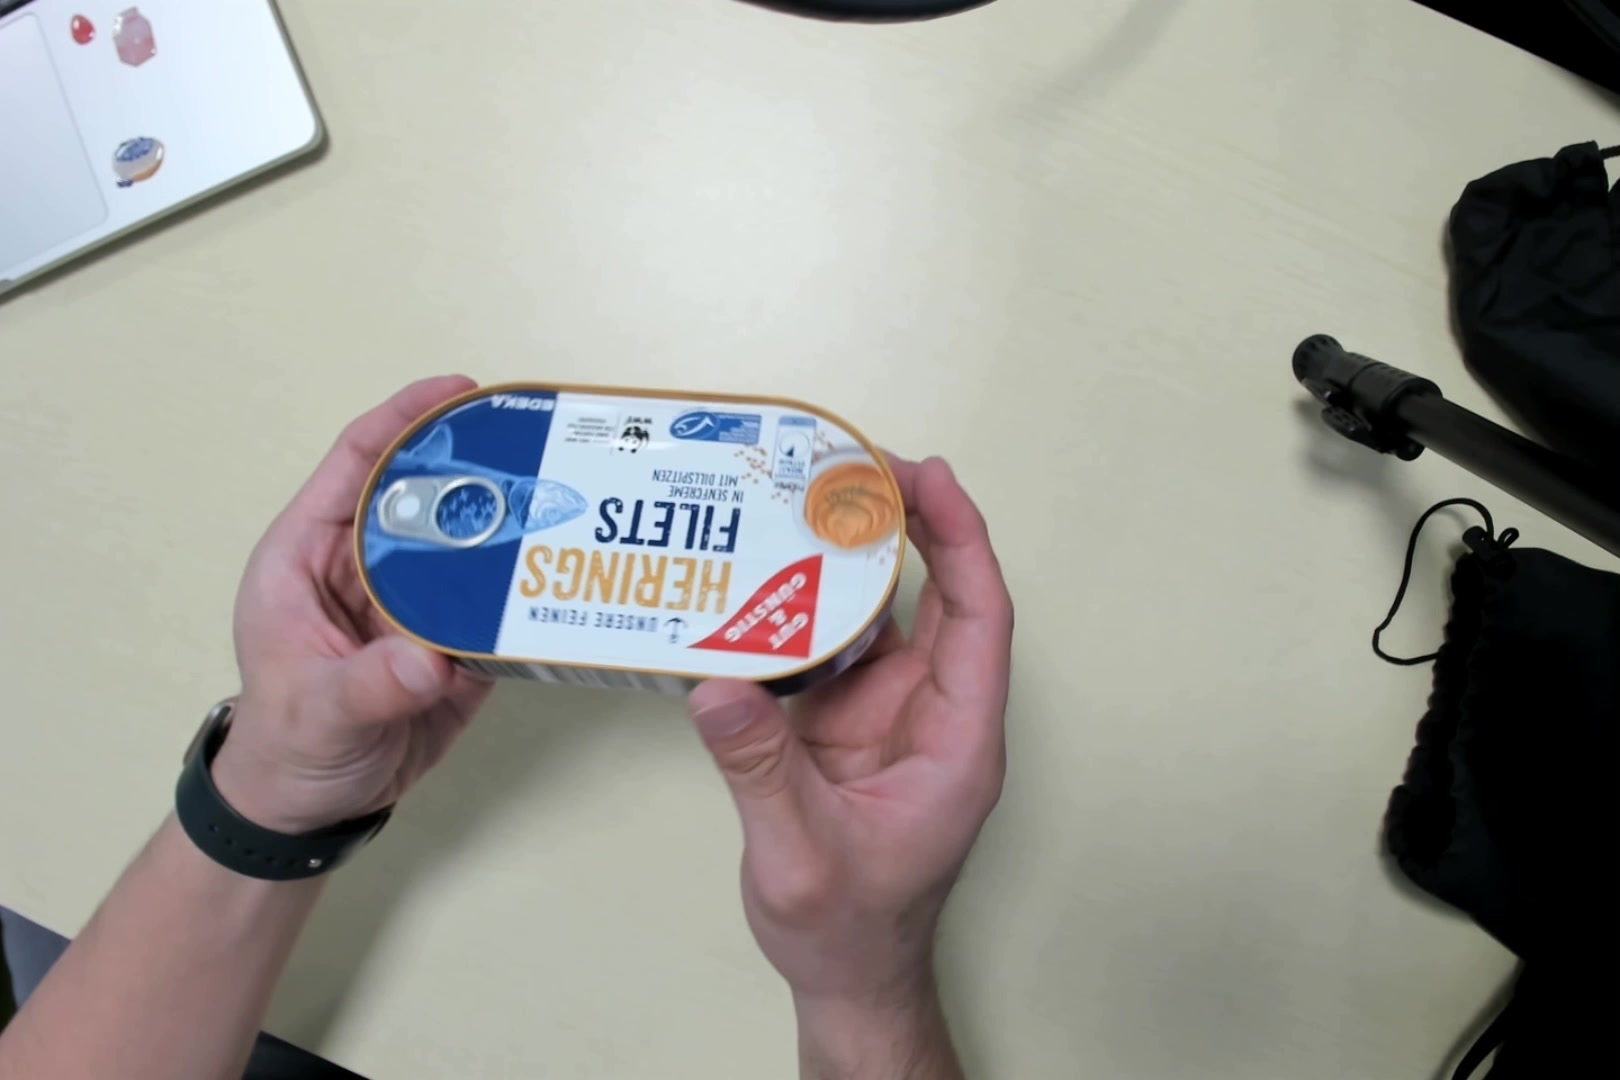OtherCannedSeafood_100-199g_Halal_NonHealthy: (354, 377, 896, 694)
